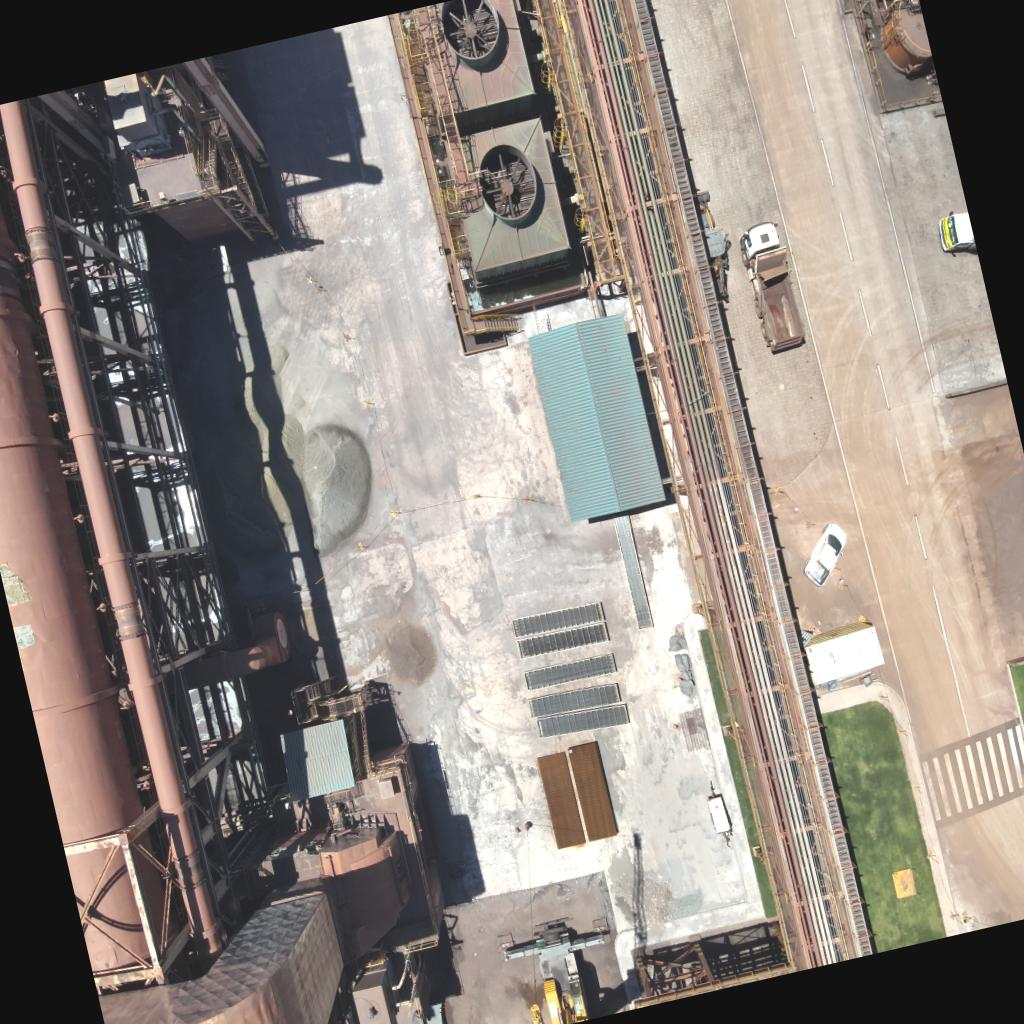Failures: (255, 825, 330, 875), (0, 555, 35, 608), (12, 618, 40, 651)
